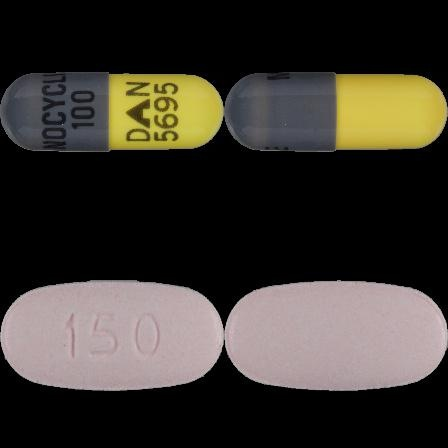49999-505: (0, 0, 224, 224)
